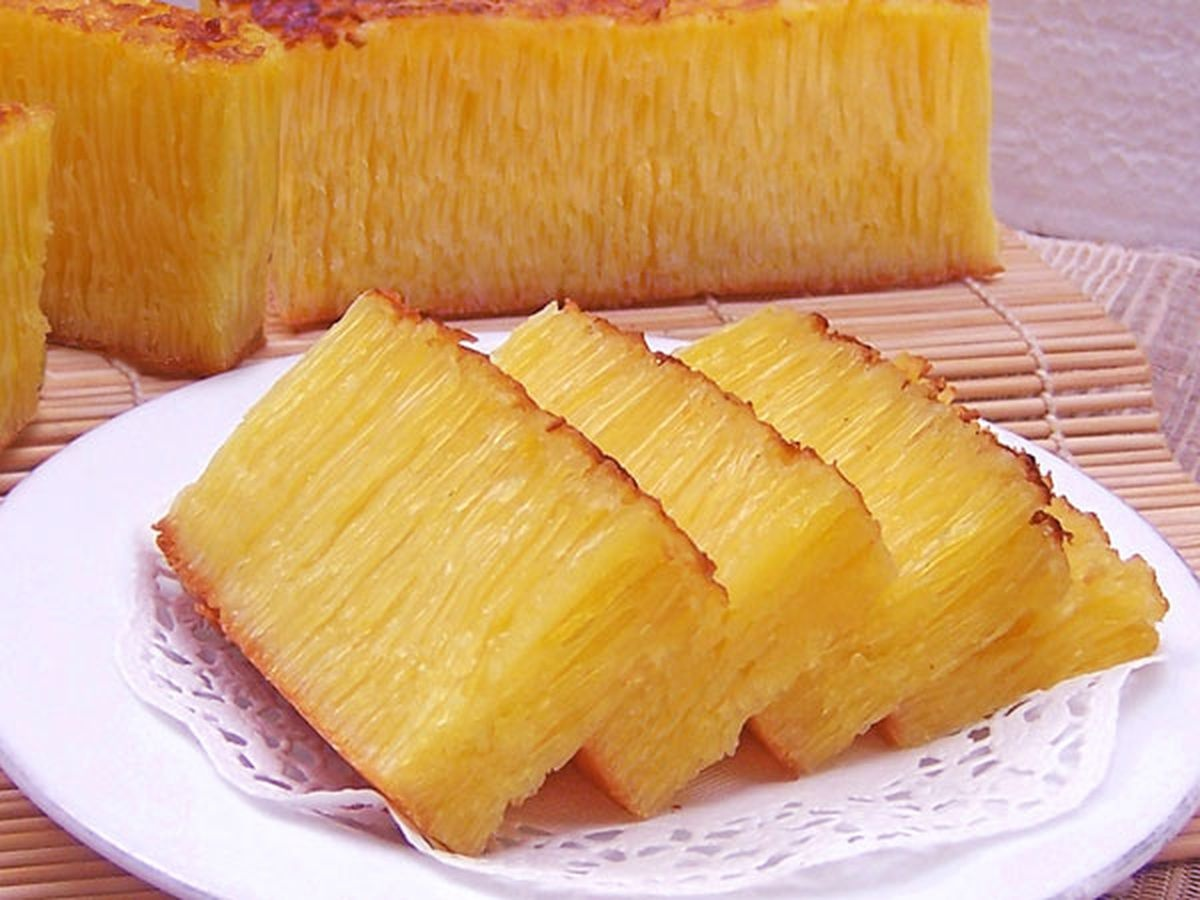bika_ambon: (130, 307, 671, 796), (508, 290, 1038, 764), (278, 17, 1046, 325)
